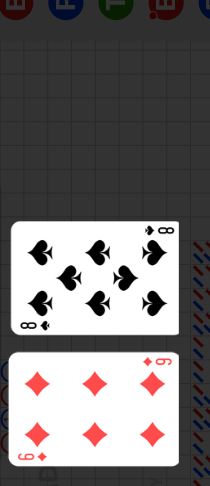10S: (142, 225, 175, 238)
6D: (16, 451, 49, 463)
